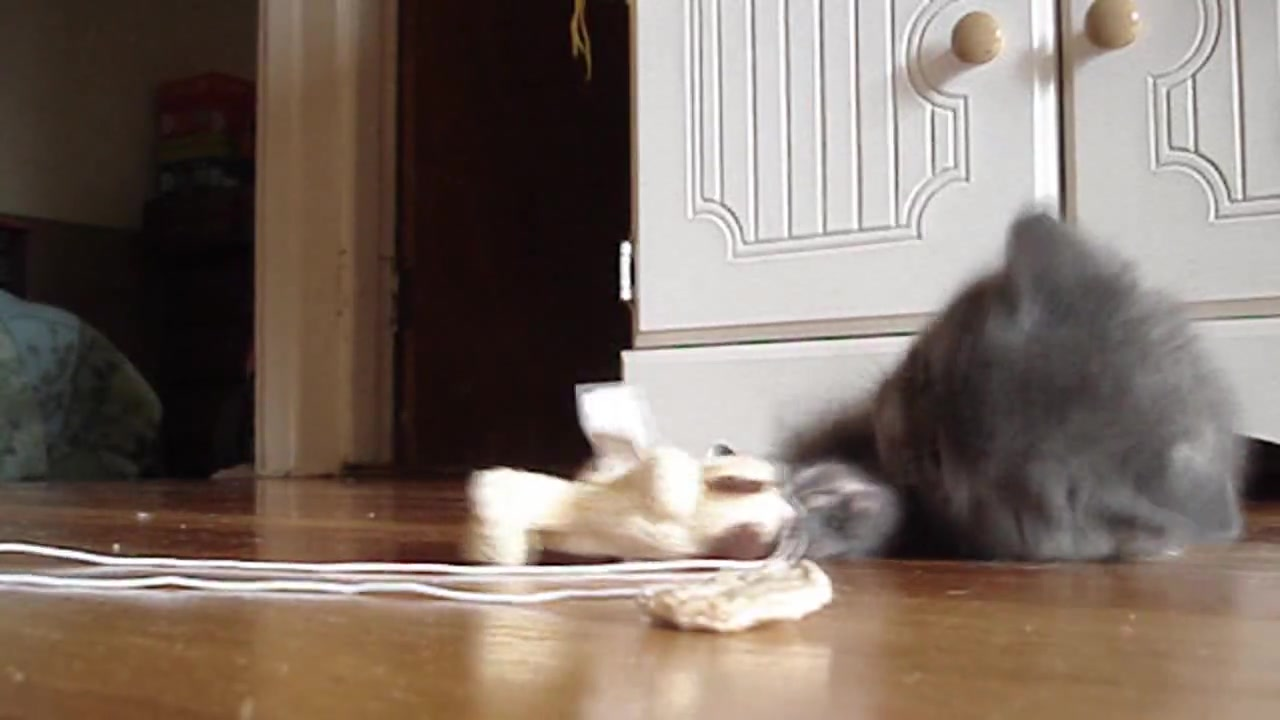cat: (785, 203, 1248, 555)
